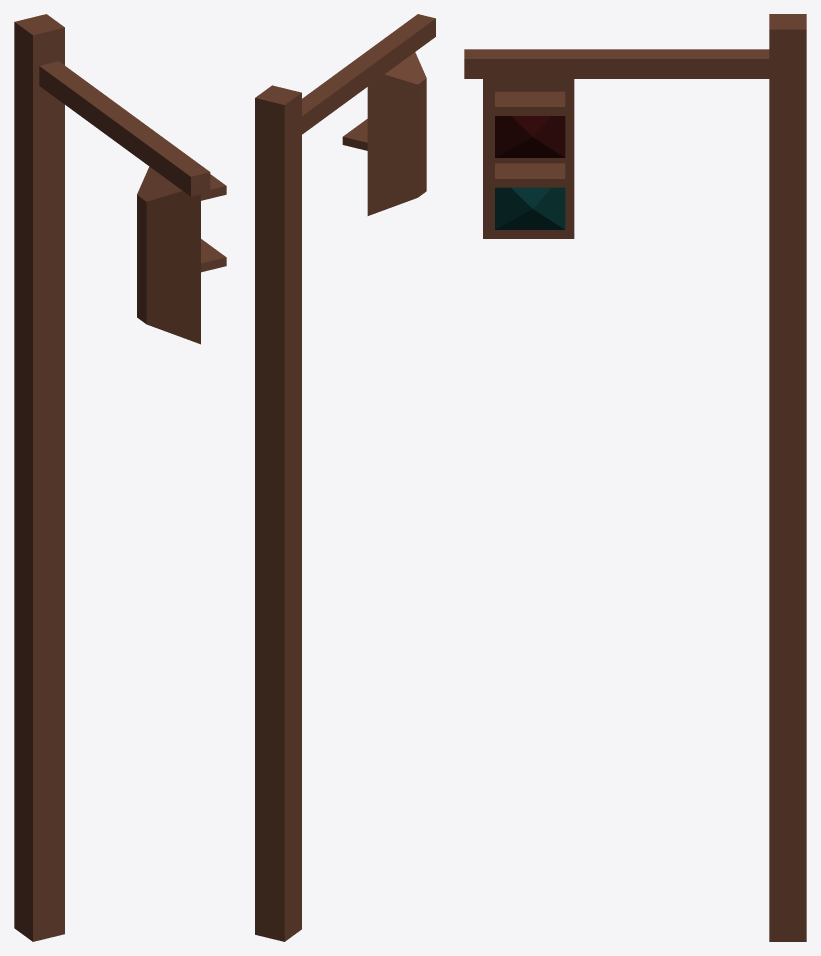
The model's file is Prop_Traffic_Light_B.fbx.
3 renders of one model, left to right at view 1: azimuth 30°, elevation 25°; view 2: azimuth 150°, elevation 25°; view 3: azimuth 270°, elevation 25°, orthographic. The views are drawn at different scales.
Parts seen in each view (by area): view 1: Prop_Traffic_Light_B_Pole; view 2: Prop_Traffic_Light_B_Pole; view 3: Prop_Traffic_Light_B_Pole, Prop_Traffic_Light_B_Green, Prop_Traffic_Light_B_Red.
Boxes of the visible parts, x1,y1,x2,y2 form: Prop_Traffic_Light_B_Pole: (14,14,226,941); Prop_Traffic_Light_B_Pole: (255,14,435,941); Prop_Traffic_Light_B_Pole: (464,14,806,941); Prop_Traffic_Light_B_Green: (495,187,565,229); Prop_Traffic_Light_B_Red: (495,116,565,157).
Bounding box in the file's own units: 31.75 × 404 × 138.
